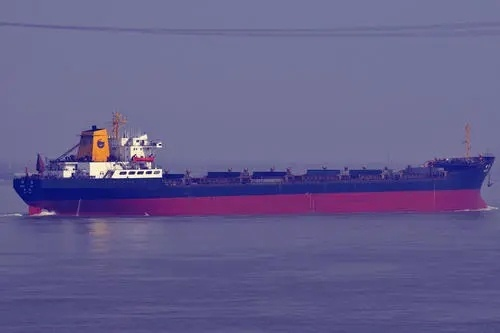Cargoship: (10, 116, 500, 215)
